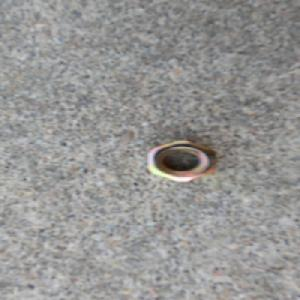Nut: (144, 138, 218, 183)
